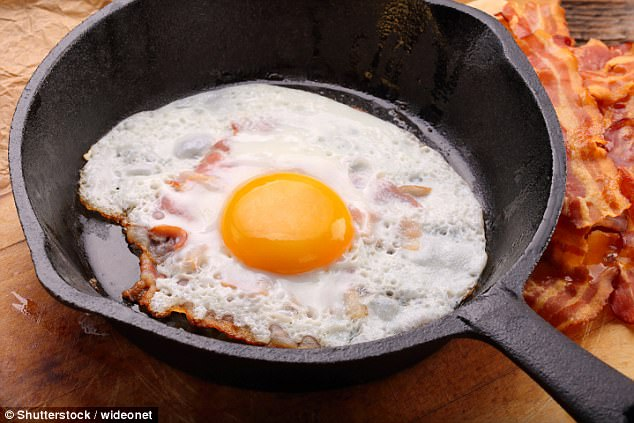fried egg: (84, 97, 481, 342)
